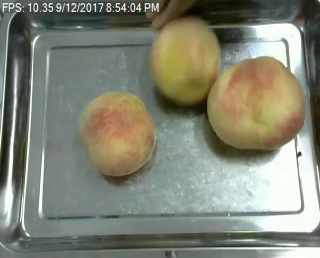Peach: (207, 56, 305, 150), (80, 91, 155, 176), (150, 16, 221, 104)
